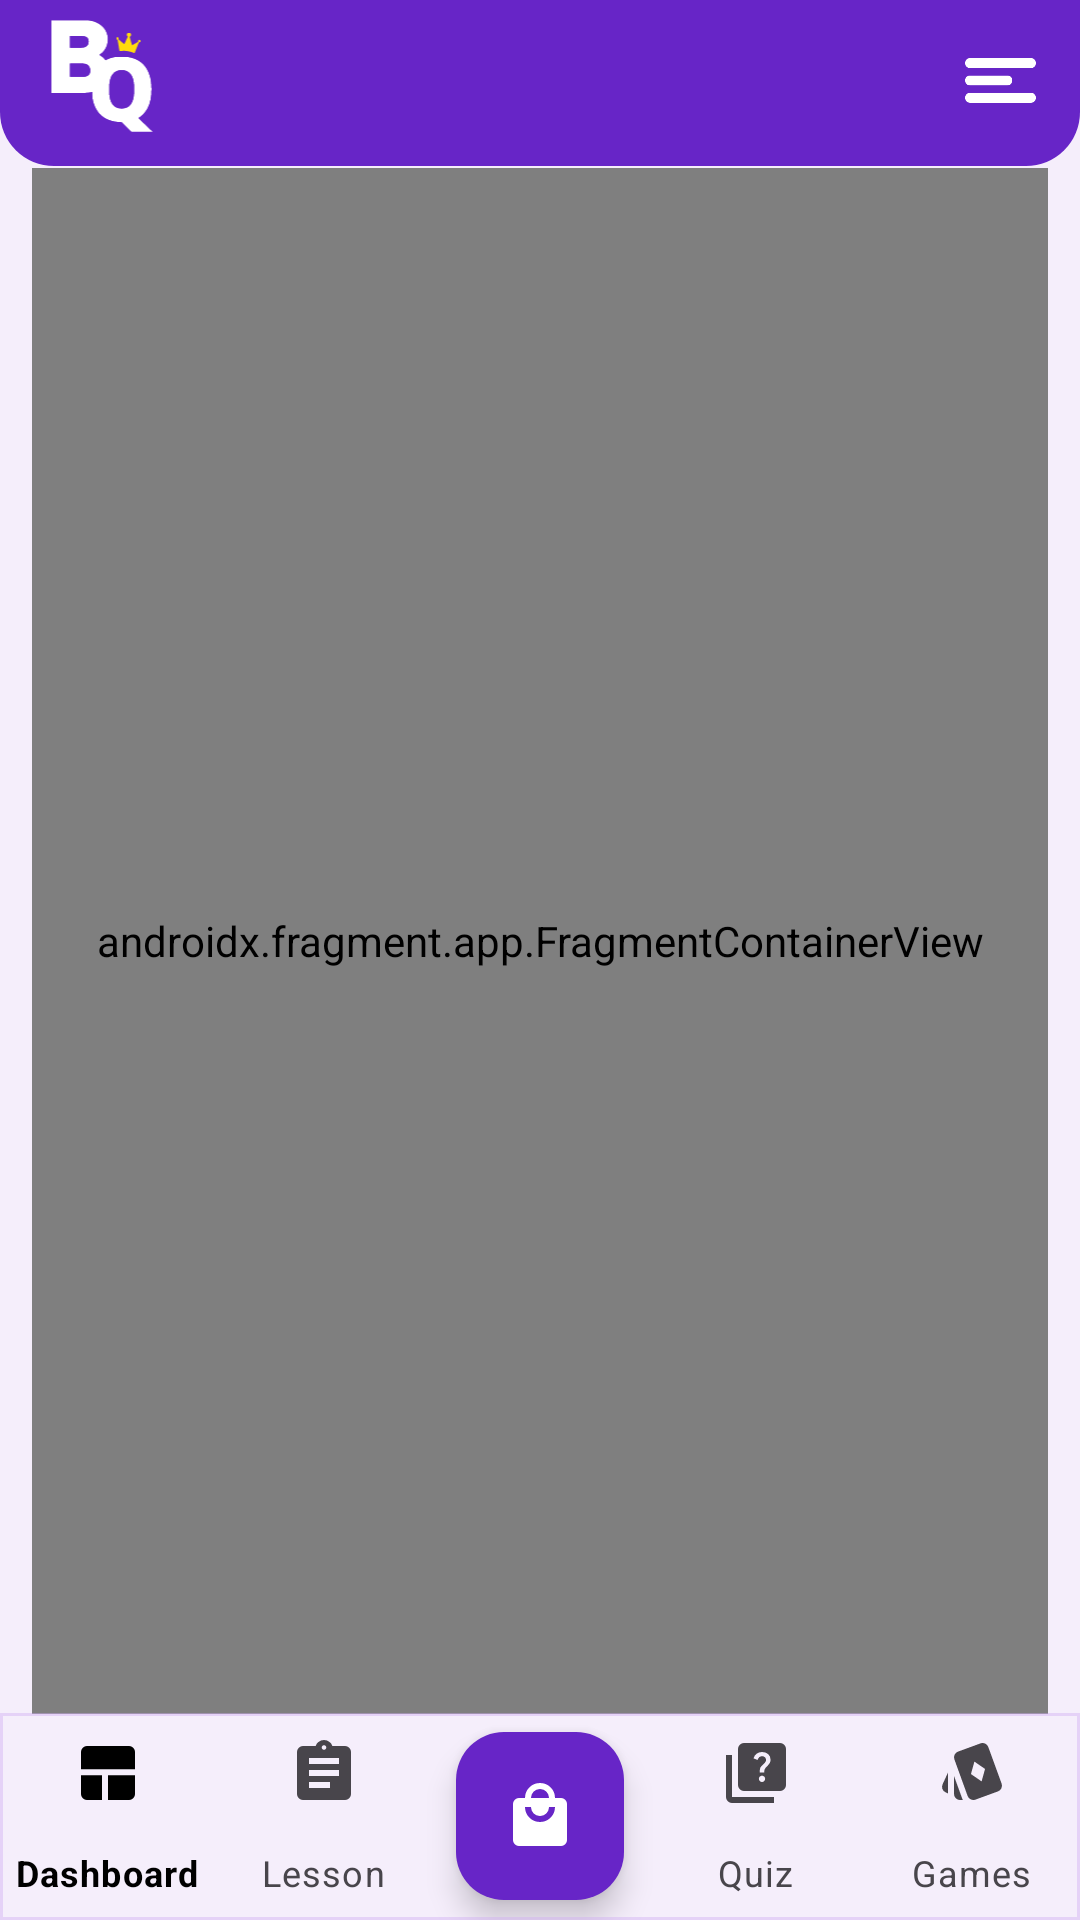

Screen size 1080×1920. Icon name, then its center in pixels as point (x, y):
hamburger: point (1000, 80)
market: point (540, 1816)
